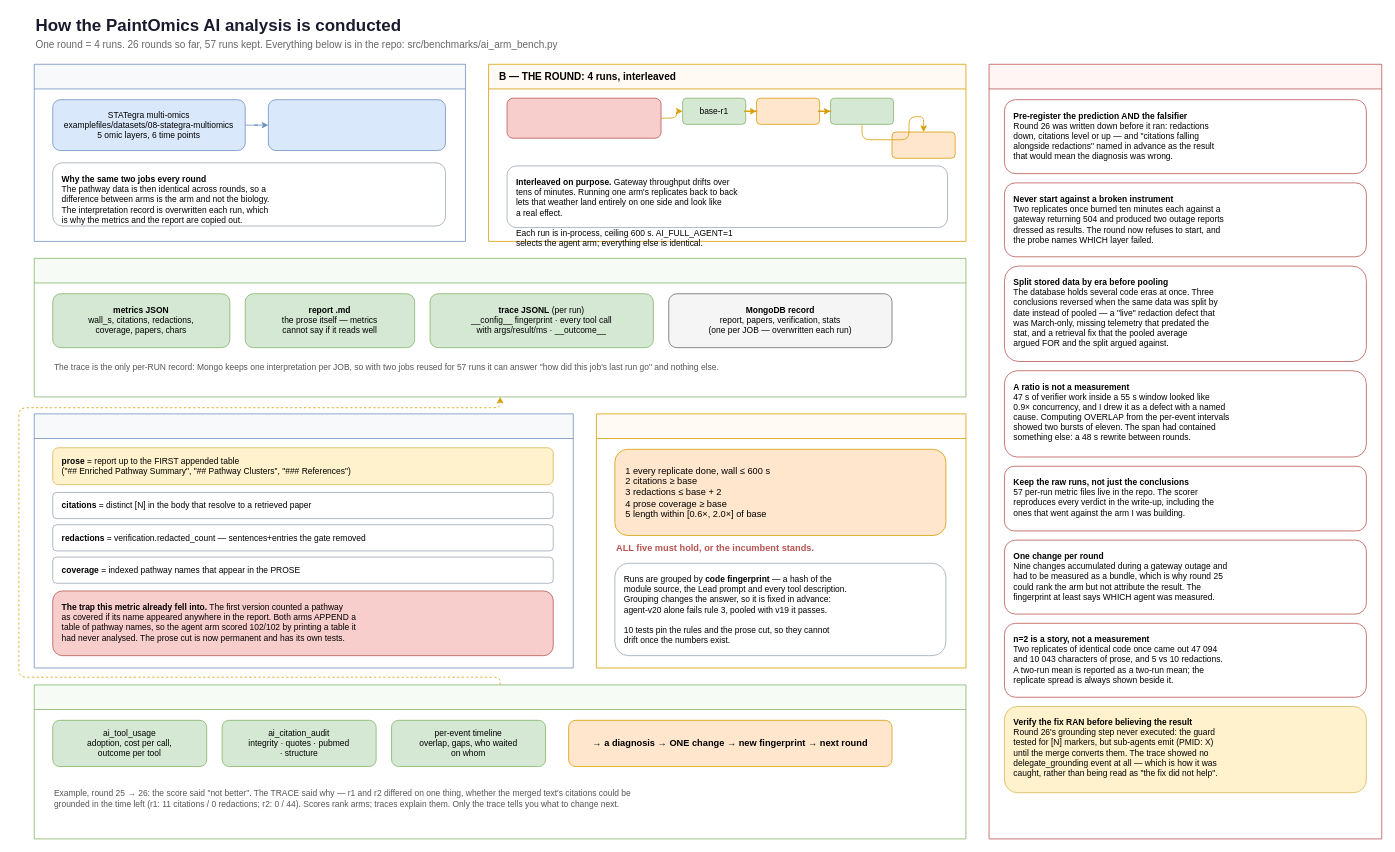
Some shapes in this 1395 by 852 pixel diagram are drawn without their labels. Here are the shapes that lost their labels. From the top down, the box of each, then its label:
(268, 99, 445, 151): ai_arm_bench jobs 2 POST /pa_step1 → /pa_step2 → 73I734364H, 1354co025T
(506, 97, 661, 138): gateway probe refuses to start if the model service is down
(756, 97, 820, 124): agent-r1
(830, 97, 894, 124): base-r2
(33, 64, 465, 241): A — INPUT: two jobs, built once, reused every round
(891, 131, 955, 158): agent-r2
(33, 258, 966, 397): C — WHAT ONE RUN LEAVES BEHIND
(988, 64, 1382, 839): G — GUARDS AGAINST FOOLING MYSELF
(33, 413, 573, 668): D — HOW EACH NUMBER IS DERIVED
(596, 413, 966, 668): E — THE VERDICT: five rules, written before any arm ran
(33, 684, 966, 839): F — WHAT THE TRACES ARE FOR: diagnosis, not scoring
